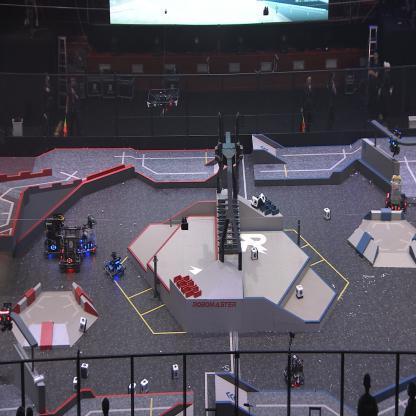car: (58, 224, 83, 272), (43, 212, 66, 257), (78, 213, 98, 258), (385, 174, 407, 214), (103, 249, 127, 280), (283, 354, 306, 386)
